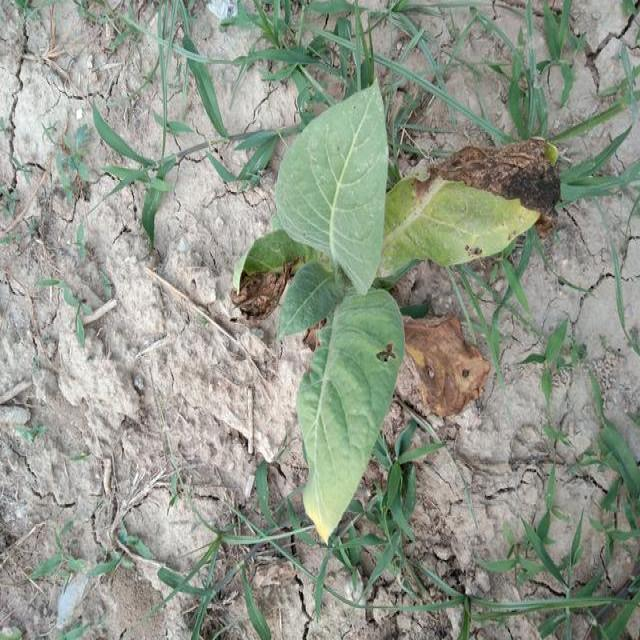crop: (257, 79, 552, 529)
